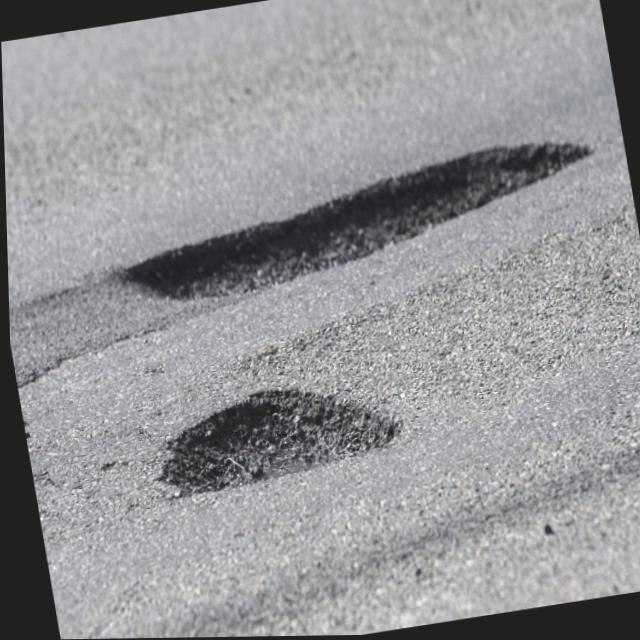Pothole: (117, 141, 592, 305), (166, 391, 398, 492)
